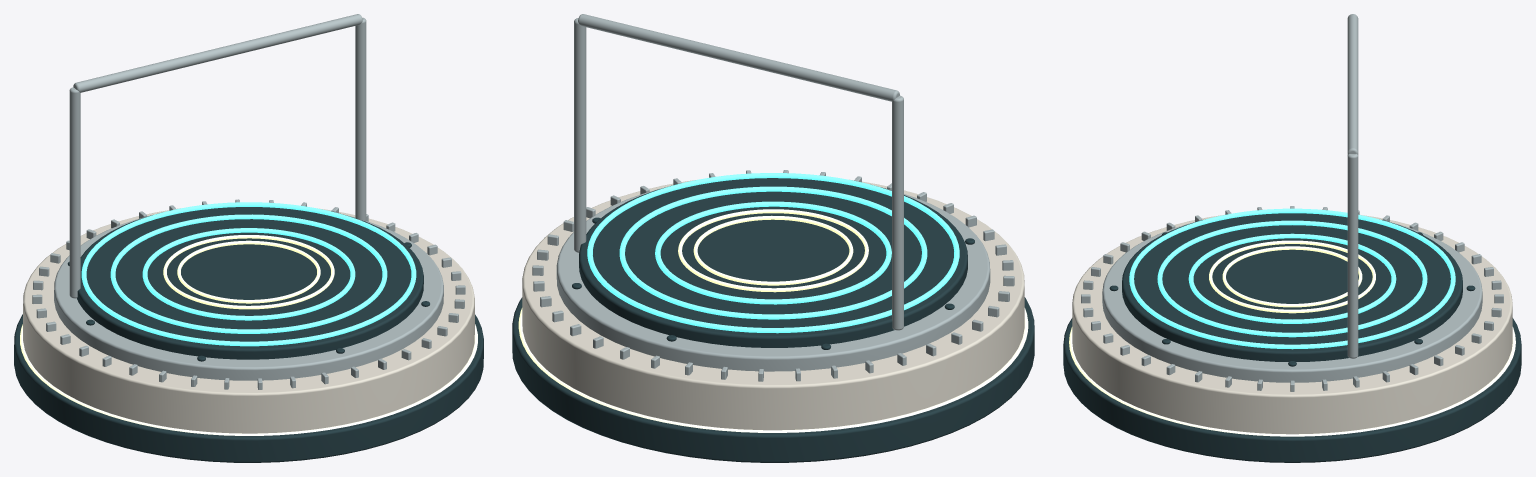
File: echo-station.glb
3 views of the same model, side by side, from view 1: azimuth 30°, elevation 25°; view 2: azimuth 150°, elevation 25°; view 3: azimuth 270°, elevation 25° (orthographic). The views are drawn at different scales.
Parts seen in each view (by area): view 1: echo-station | Graphite precision, Porcelain base, echo-station | Brushed aluminum, echo-station | Ice blue light, echo-station | Warm edge lighting; view 2: echo-station | Graphite precision, Porcelain base, echo-station | Brushed aluminum, echo-station | Ice blue light, echo-station | Warm edge lighting; view 3: echo-station | Graphite precision, Porcelain base, echo-station | Brushed aluminum, echo-station | Ice blue light, echo-station | Warm edge lighting.
Part boxes in pixels (x1,y1,x2,y2): echo-station | Graphite precision: (14,207,483,462); Porcelain base: (23,208,474,433); echo-station | Brushed aluminum: (32,14,465,389); echo-station | Ice blue light: (81,202,416,346); echo-station | Warm edge lighting: (20,235,477,435); echo-station | Graphite precision: (512,178,1034,462); Porcelain base: (522,179,1024,430); echo-station | Brushed aluminum: (532,14,1014,381); echo-station | Ice blue light: (587,173,959,333); echo-station | Warm edge lighting: (518,209,1028,432); echo-station | Graphite precision: (1063,213,1521,462); Porcelain base: (1072,215,1512,434); echo-station | Brushed aluminum: (1081,14,1503,391); echo-station | Ice blue light: (1129,208,1455,349); echo-station | Warm edge lighting: (1069,240,1515,436).
Size of the model in its own units: 4.7 by 3.24 by 4.7.
